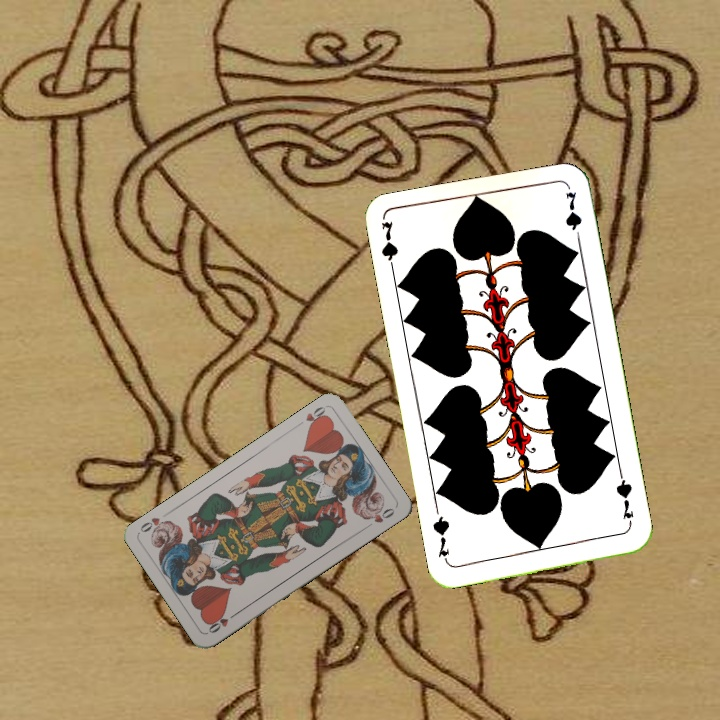G7: (611, 471, 637, 530), (377, 218, 401, 278)
HO: (293, 402, 330, 432), (204, 608, 240, 636)
